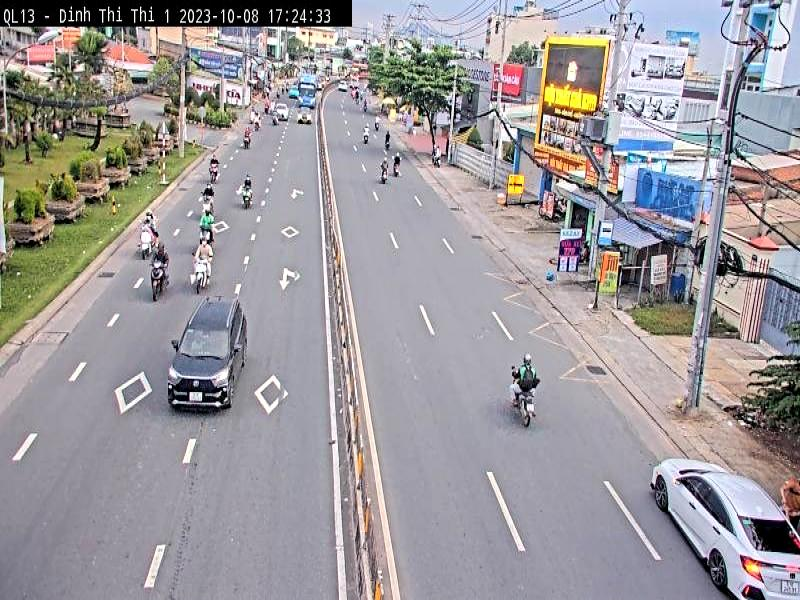bus: (299, 74, 317, 109)
car: (650, 457, 800, 600), (167, 296, 246, 412), (298, 105, 312, 125), (274, 106, 289, 122)
motorcycle: (192, 253, 212, 294), (150, 261, 165, 301), (521, 391, 535, 429)
